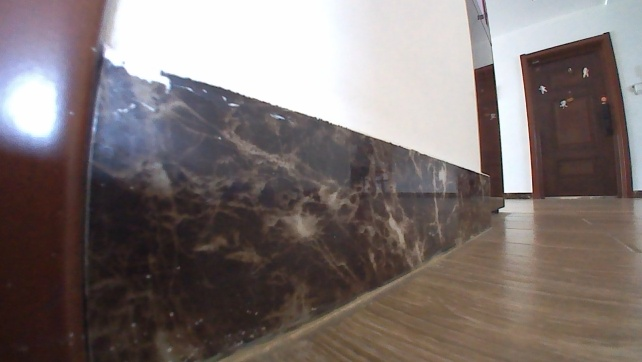door_anno: (519, 29, 634, 200)
